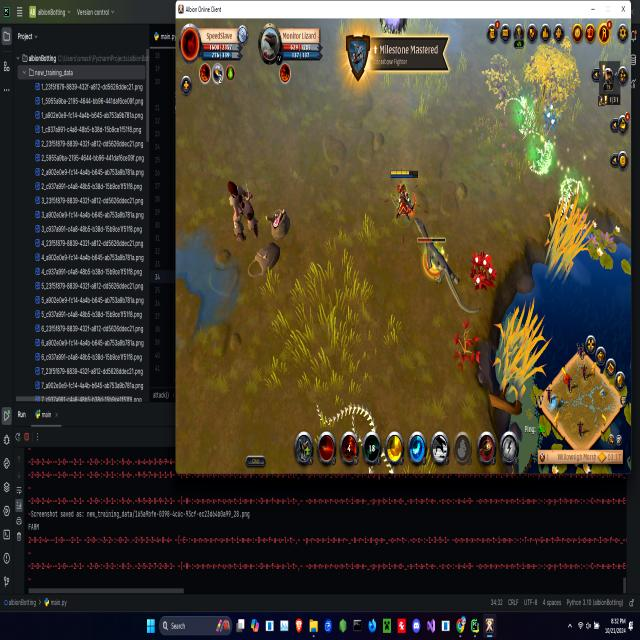hide: (467, 244, 498, 297), (540, 96, 564, 136)
ore: (413, 214, 482, 322), (221, 177, 264, 245)
red: (389, 167, 421, 227)
